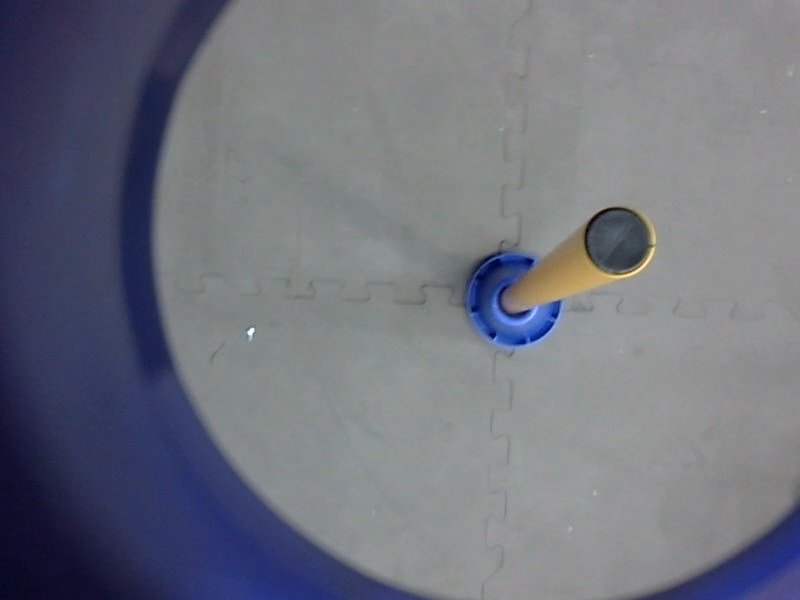tip: (573, 198, 667, 287)
